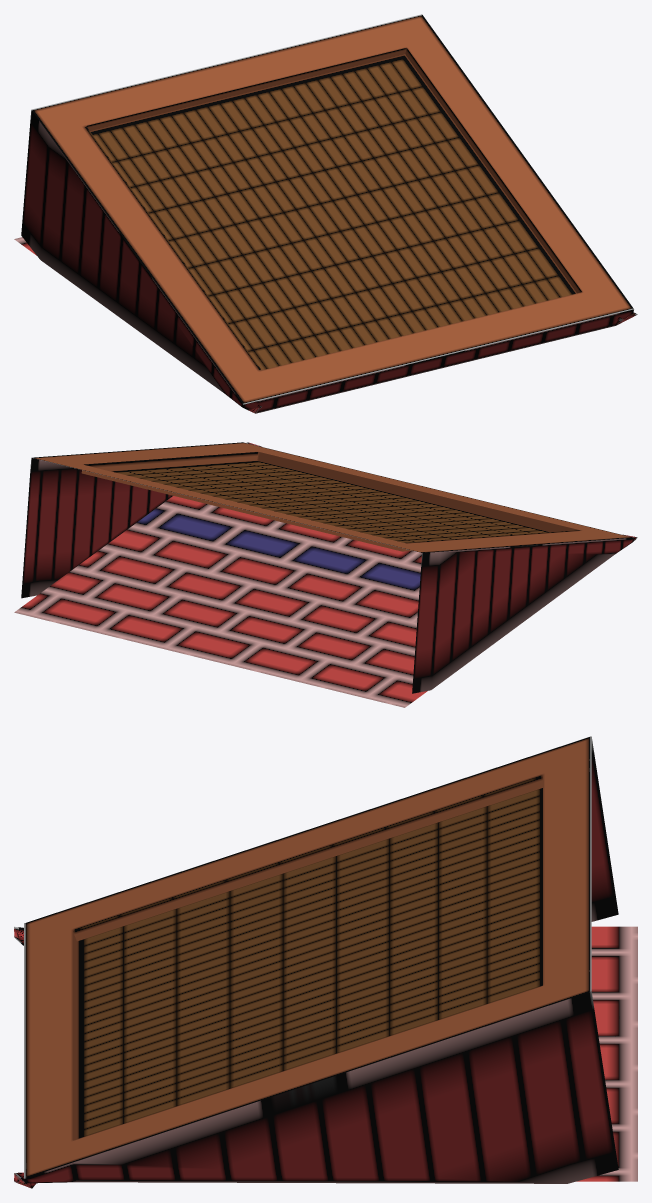
Rendered from TallBuildingDestoryed.fbx.
The picture shows the model from 3 angles, top to bottom: view 1: azimuth 30°, elevation 25°; view 2: azimuth 150°, elevation 25°; view 3: azimuth 270°, elevation 25°; orthographic projection. The views are drawn at different scales.
Parts seen in each view (by area): view 1: Cube; view 2: Cube; view 3: Cube.
Boxes of the visible parts, x1,y1,x2,y2 form: Cube: (14,14,637,413); Cube: (14,442,637,707); Cube: (14,736,637,1188).
Bounding box in the file's own units: 200 × 75.73 × 207.
